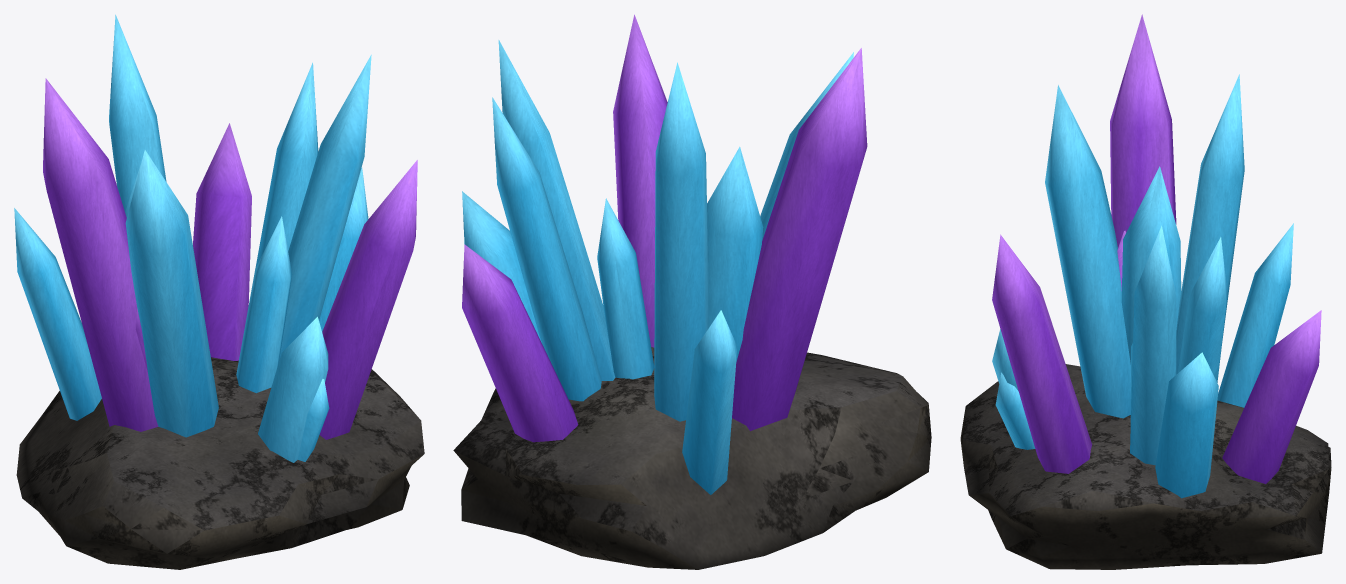
File: crystal_spire.glb
3 renders of one model, left to right at view 1: azimuth 30°, elevation 25°; view 2: azimuth 150°, elevation 25°; view 3: azimuth 270°, elevation 25°, orthographic. The views are drawn at different scales.
Visible parts, largest first — view 1: crystal_spire; view 2: crystal_spire; view 3: crystal_spire.
Boxes of the visible parts, bbox=[...] form: crystal_spire: bbox=[14, 14, 424, 569]; crystal_spire: bbox=[453, 14, 931, 569]; crystal_spire: bbox=[960, 14, 1331, 569].
Size of the model in its own units: 2.7 by 3.23 by 2.53.
Materials: 3 (3 with a texture image).
